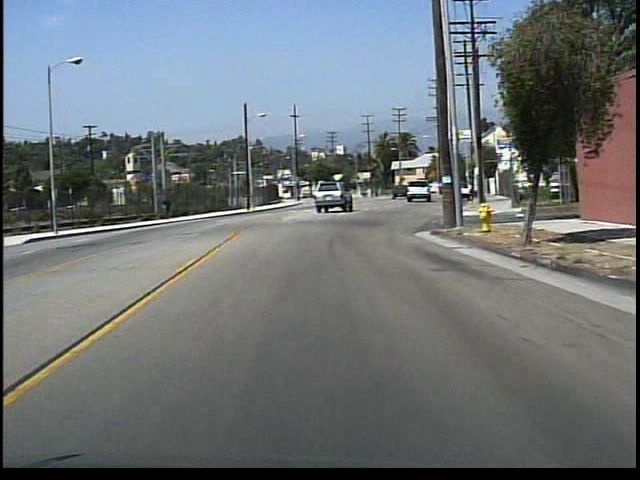person: (164, 190, 177, 220)
